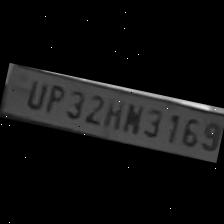1: (158, 107, 183, 144)
2: (80, 88, 108, 124)
3: (138, 102, 166, 140), (59, 82, 86, 119)
6: (176, 112, 202, 148)
9: (196, 116, 222, 152)
N: (117, 98, 144, 134)
P: (40, 78, 66, 114)
U: (19, 73, 46, 109)
